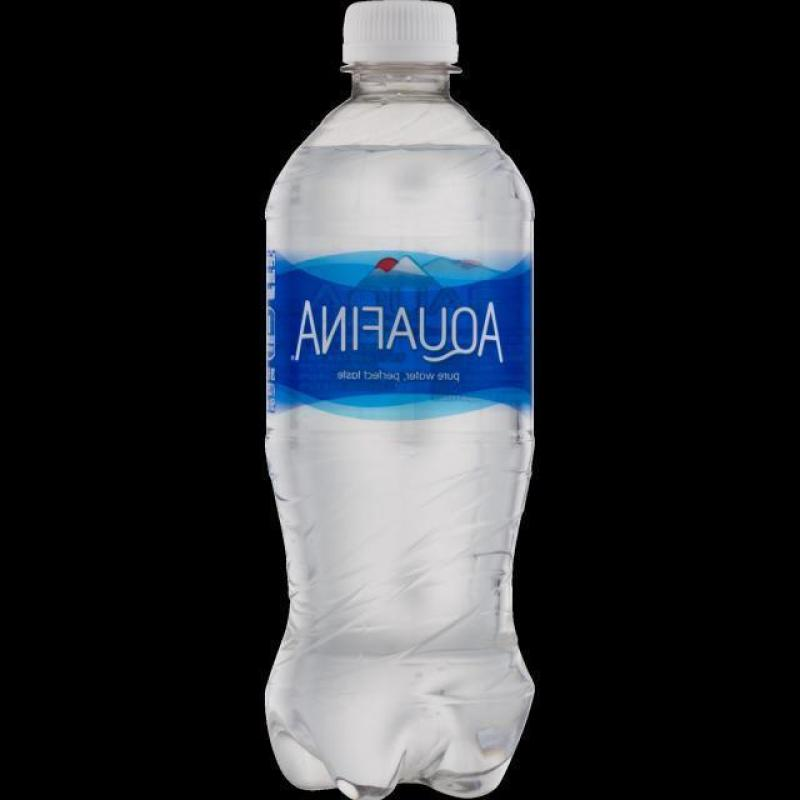botella: (265, 0, 534, 800)
